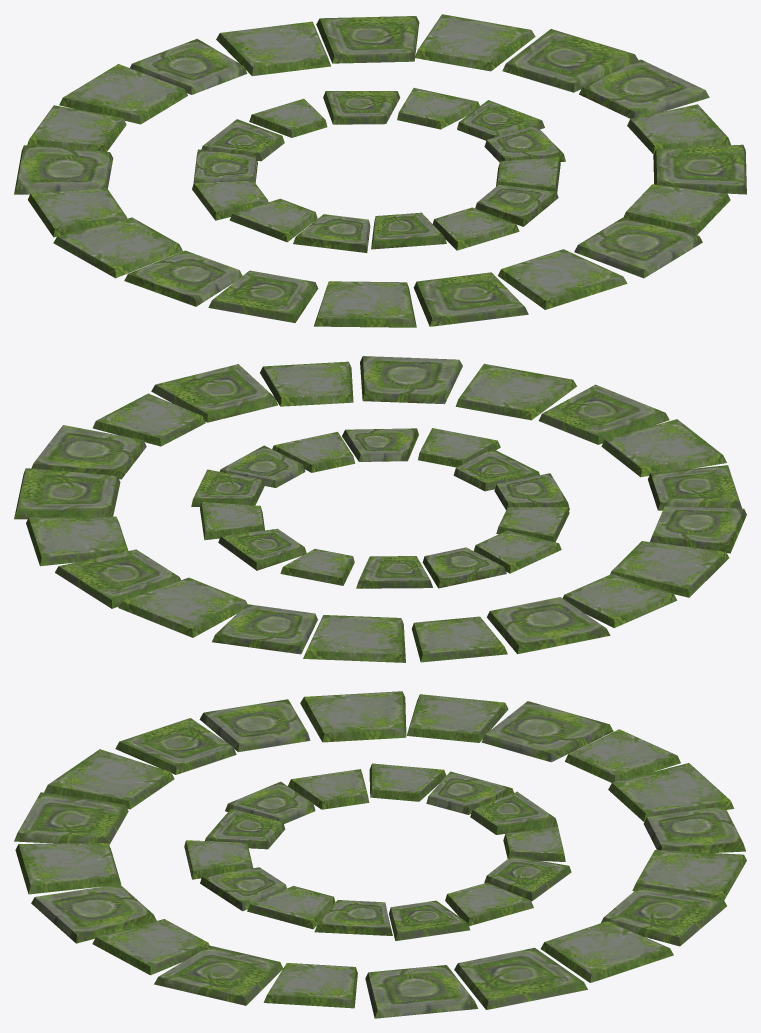
Rendered from 3014_Item_dimian_01.FBX.
The picture shows the model from 3 angles, top to bottom: view 1: azimuth 30°, elevation 25°; view 2: azimuth 150°, elevation 25°; view 3: azimuth 270°, elevation 25°; orthographic projection. The views are drawn at different scales.
Visible parts, largest first — view 1: 3014_Item_dimian_01; view 2: 3014_Item_dimian_01; view 3: 3014_Item_dimian_01.
Boxes of the visible parts, x1,y1,x2,y2 form: 3014_Item_dimian_01: (14, 14, 746, 327); 3014_Item_dimian_01: (14, 356, 746, 662); 3014_Item_dimian_01: (14, 691, 746, 1018).
Size of the model in its own units: 1444 by 21.67 by 1392.
